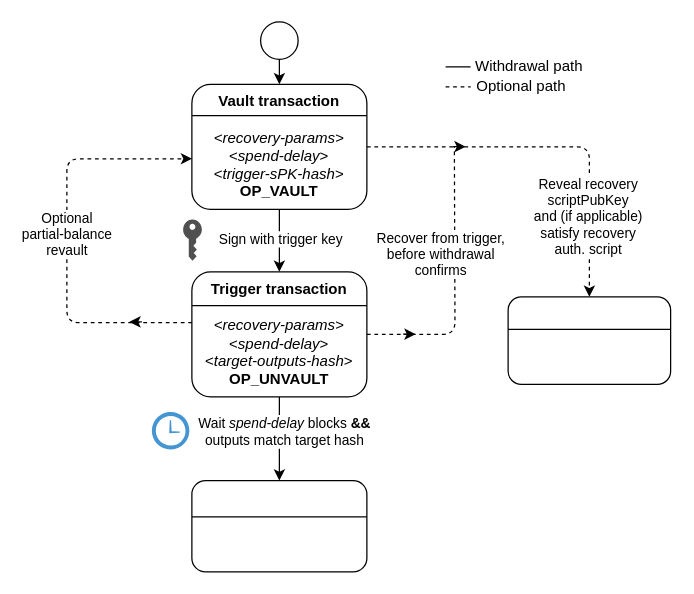
This 694x594 diagram has some shape labels left out. Here are the shapes that lost their labels. From the top down, the centre of each, then its label:
At point (589, 340): "Recovery transaction [outputs controlled by recovery keys]".
At point (279, 525): "Withdrawal transaction [dynamically chosen target outputs]".
